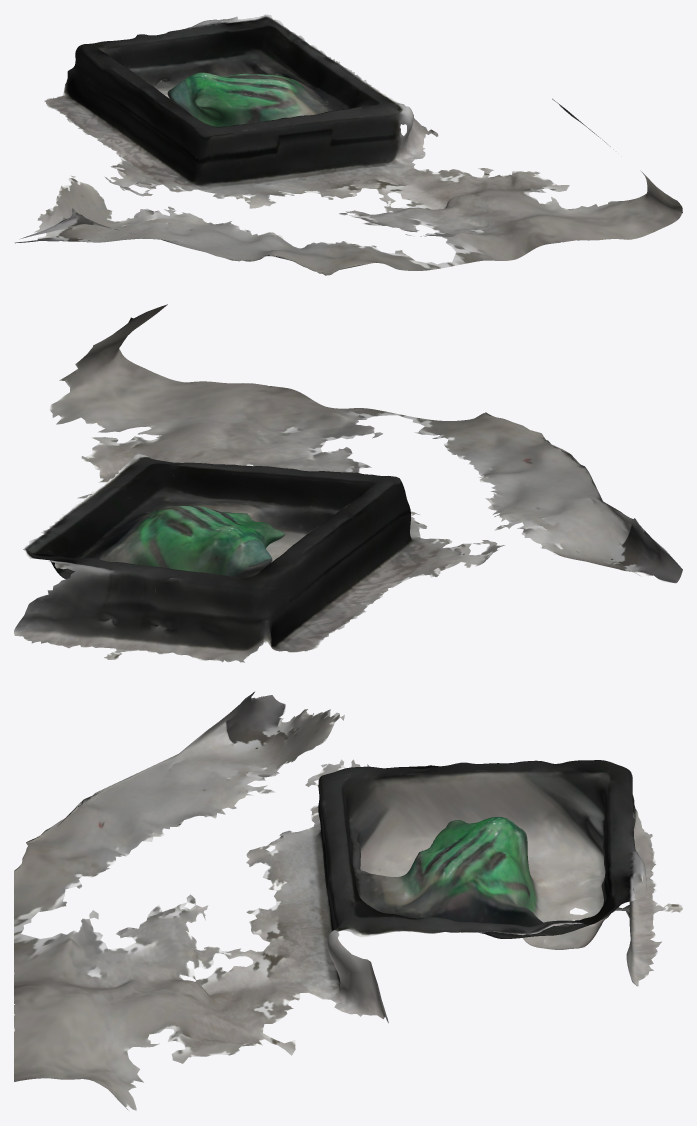
3 views of the same model, one above another, from view 1: azimuth 30°, elevation 25°; view 2: azimuth 150°, elevation 25°; view 3: azimuth 270°, elevation 25° (orthographic). The views are drawn at different scales.
Size of the model in its own units: 1.33 by 0.2546 by 1.09.
Materials: 1 (1 with a texture image).
